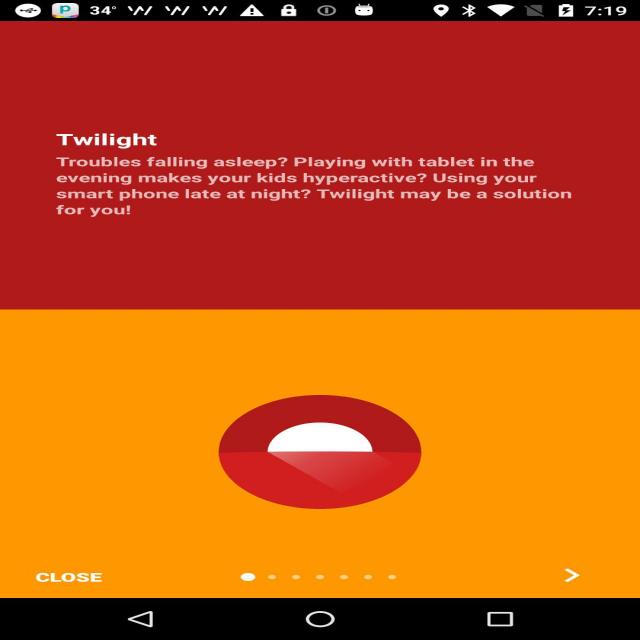image: (9, 304, 640, 562)
text: (17, 88, 628, 262)
